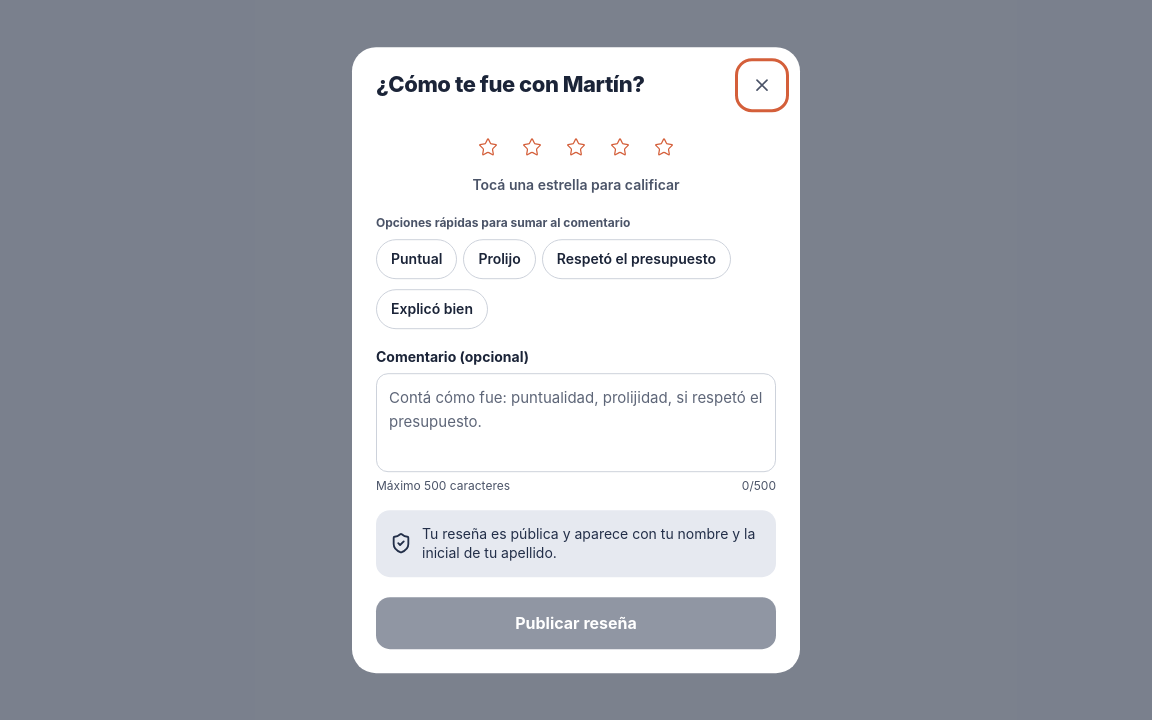
HojaResena › agrega y quita chips rápidos al comentario
The image size is (1152, 720).
Click the button "Puntual". click: (417, 259)
box: [376,237,457,281]
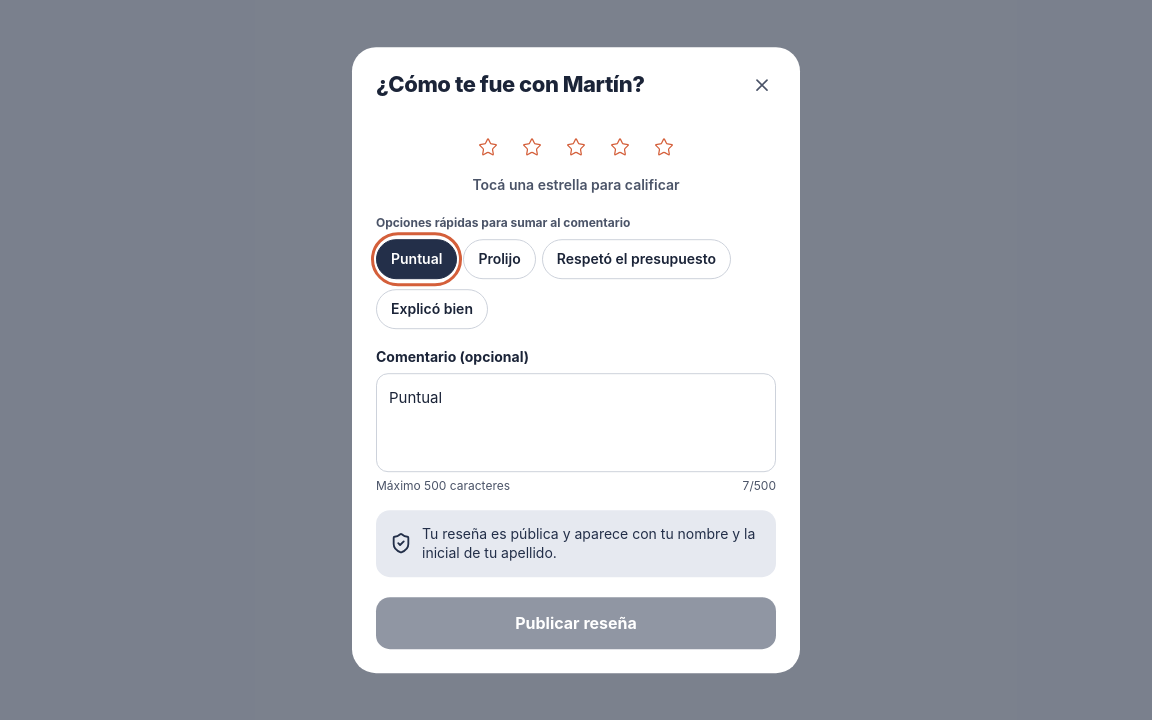
Check: the text box with placeholder "Contá cómo fue: puntualidad, prolijidad, si respetó el presupuesto." holds "Puntual", box [376,373,776,472]
Click the button "Prolijo". click: (500, 259)
box: [463,237,536,281]
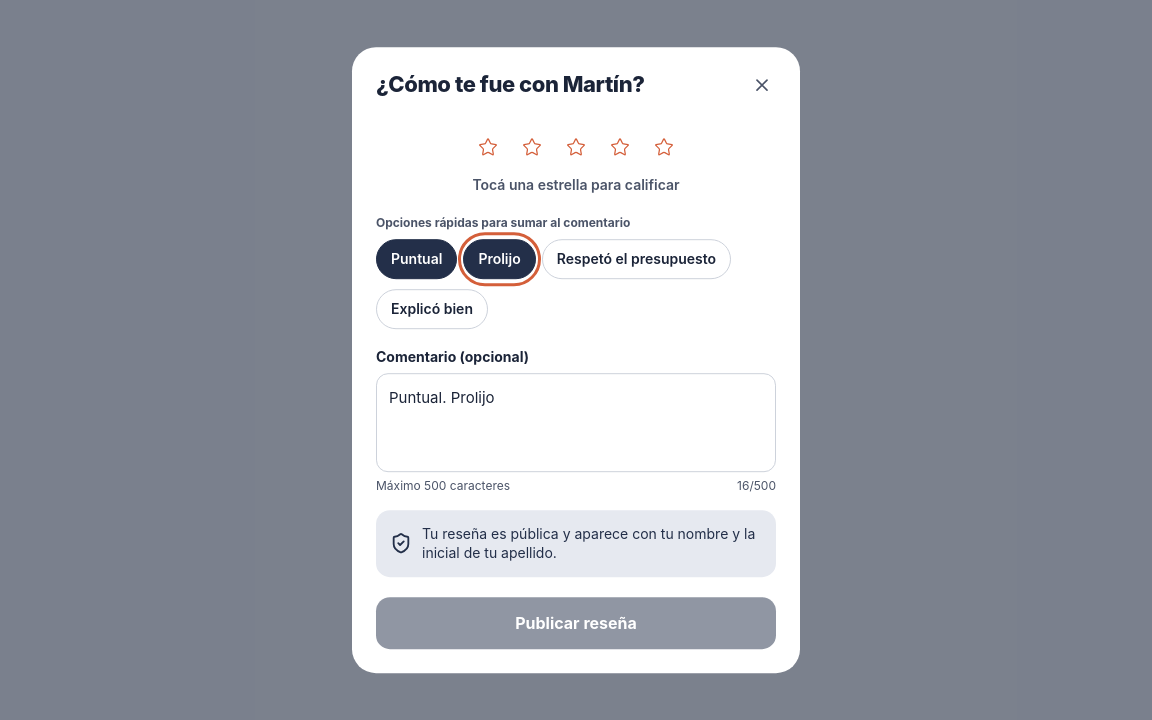
Check: the text box with placeholder "Contá cómo fue: puntualidad, prolijidad, si respetó el presupuesto." holds "Puntual. Prolijo", box [376,373,776,472]
// Desmarcar chip puntual
Click the button "Puntual". click: (417, 259)
box: [376,237,457,281]
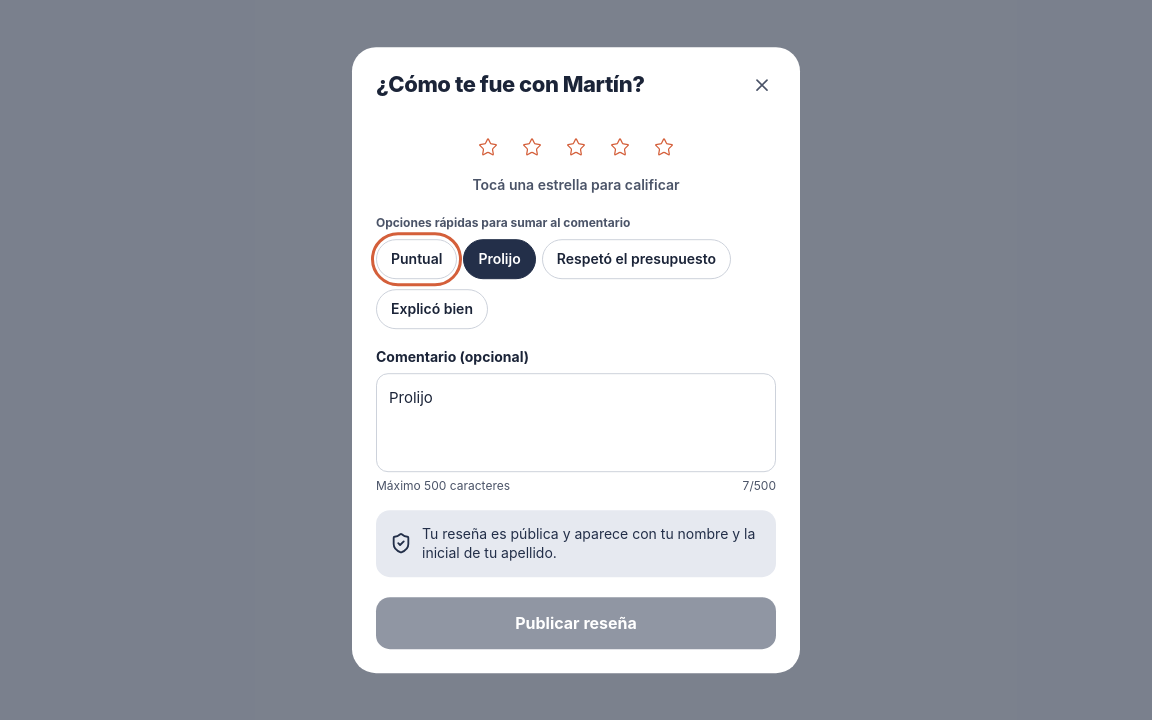
Check: the text box with placeholder "Contá cómo fue: puntualidad, prolijidad, si respetó el presupuesto." holds "Prolijo", box [376,373,776,472]
